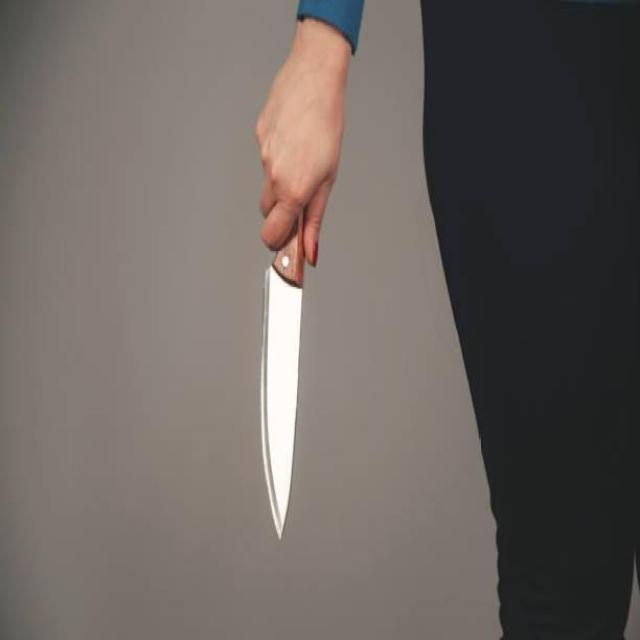faca: (248, 22, 350, 541)
